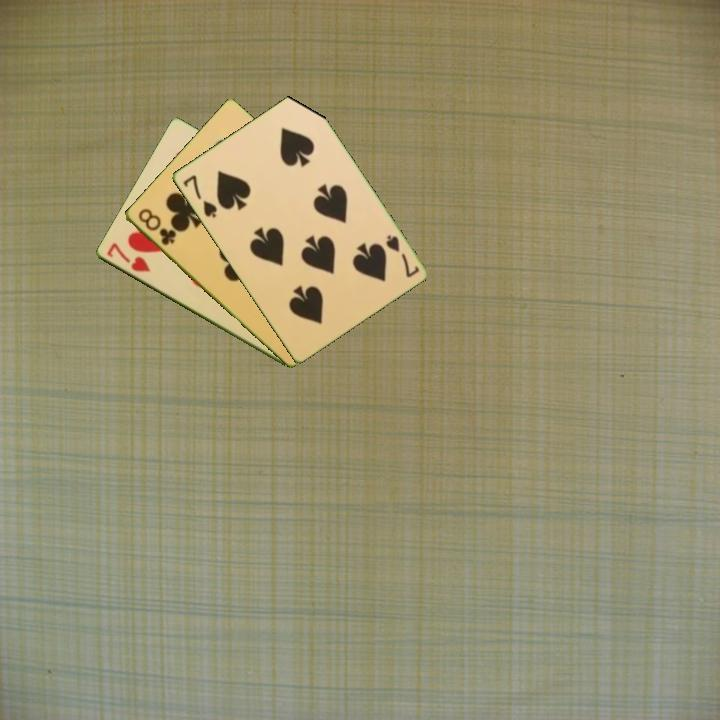7h: (103, 239, 153, 275)
7s: (179, 171, 220, 221), (382, 231, 422, 280)
8c: (134, 205, 179, 248)
